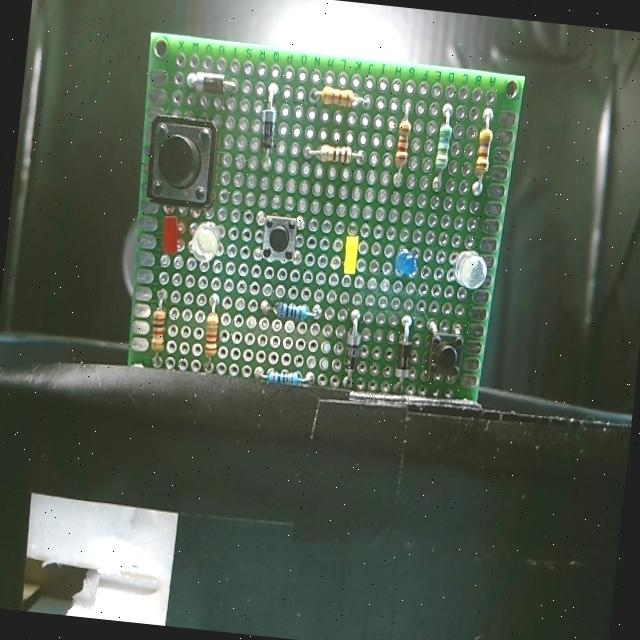diode: (342, 330, 366, 375), (256, 106, 280, 150), (393, 334, 415, 382), (192, 68, 228, 94)
led: (448, 246, 488, 292), (186, 217, 222, 265), (158, 212, 184, 262), (391, 248, 420, 282), (339, 235, 361, 278)
resistor: (310, 82, 366, 110), (433, 122, 455, 176), (470, 127, 492, 181), (314, 142, 358, 168), (270, 298, 314, 324), (148, 304, 170, 355), (392, 117, 412, 170), (200, 310, 220, 360), (262, 369, 306, 387)
switch: (144, 115, 222, 212), (424, 328, 466, 382), (259, 214, 299, 262)
